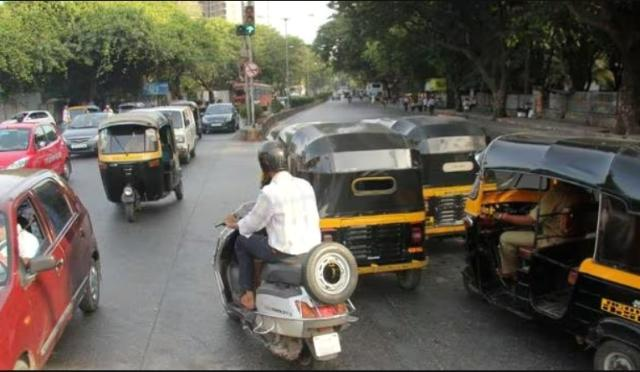motorcycle: (206, 136, 358, 365)
withHelmet: (255, 141, 291, 179)
